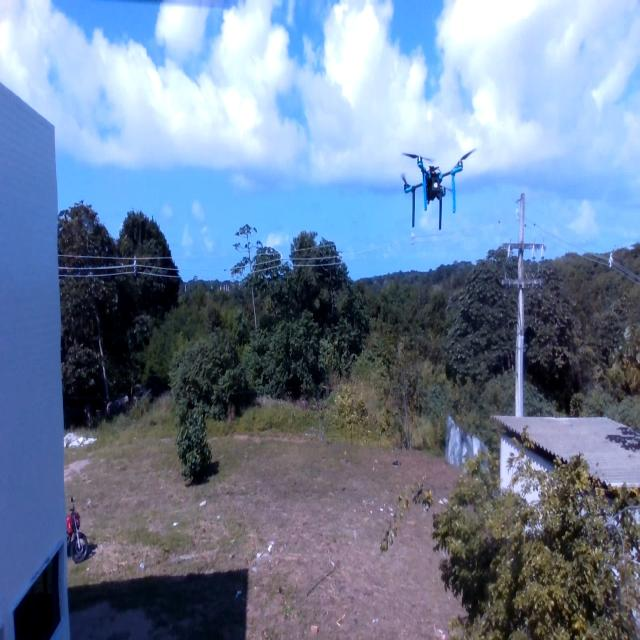-uav-: (391, 136, 480, 233)
